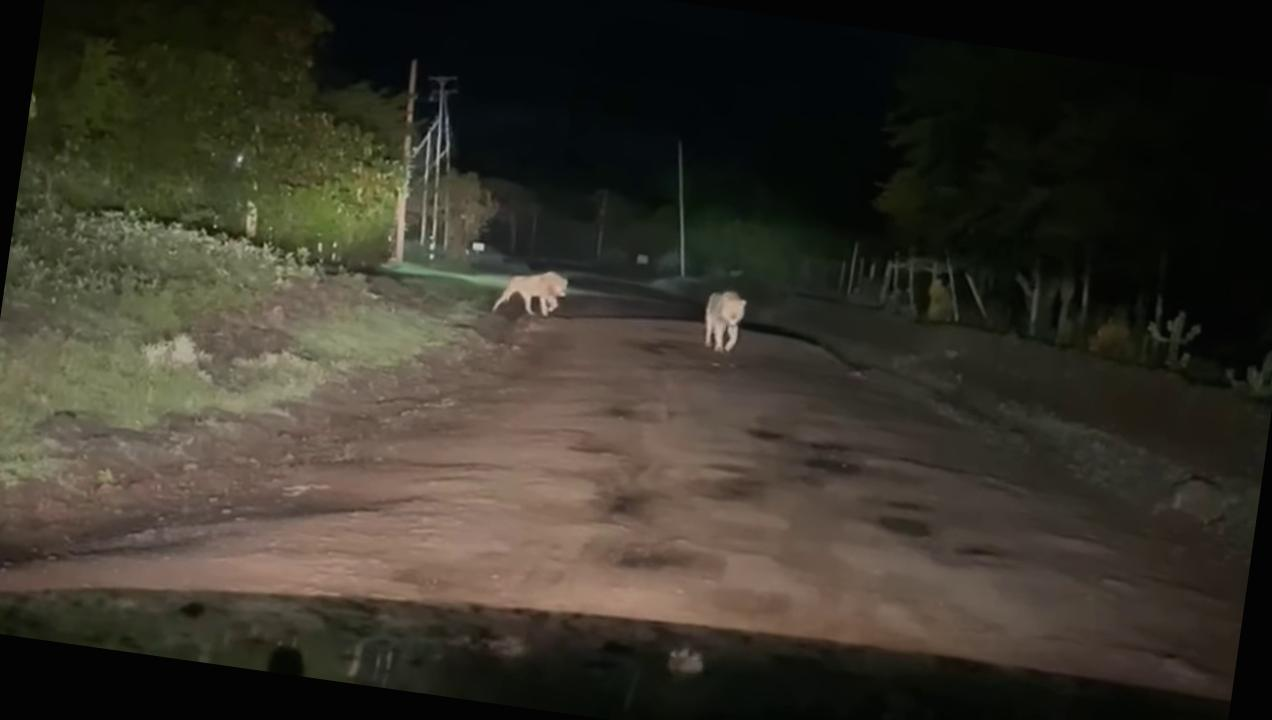lions: (654, 270, 784, 366)
